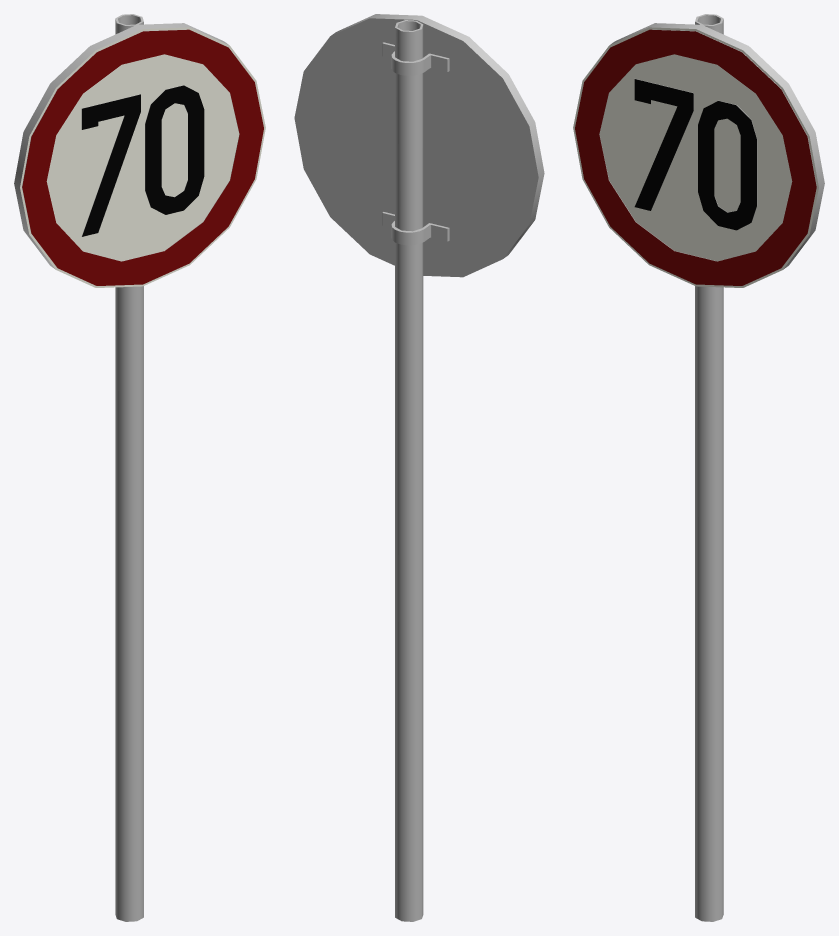
3 renders of one model, left to right at view 1: azimuth 30°, elevation 25°; view 2: azimuth 150°, elevation 25°; view 3: azimuth 330°, elevation 25°, orthographic.
Visible parts, largest first — view 1: 70; view 2: 70; view 3: 70.
Boxes of the visible parts, box(x1,y1,x2,y2) form: 70: box(14, 14, 265, 921); 70: box(294, 14, 544, 921); 70: box(573, 14, 824, 921).
Bounding box in the file's own units: 603 × 2102 × 95.5.
